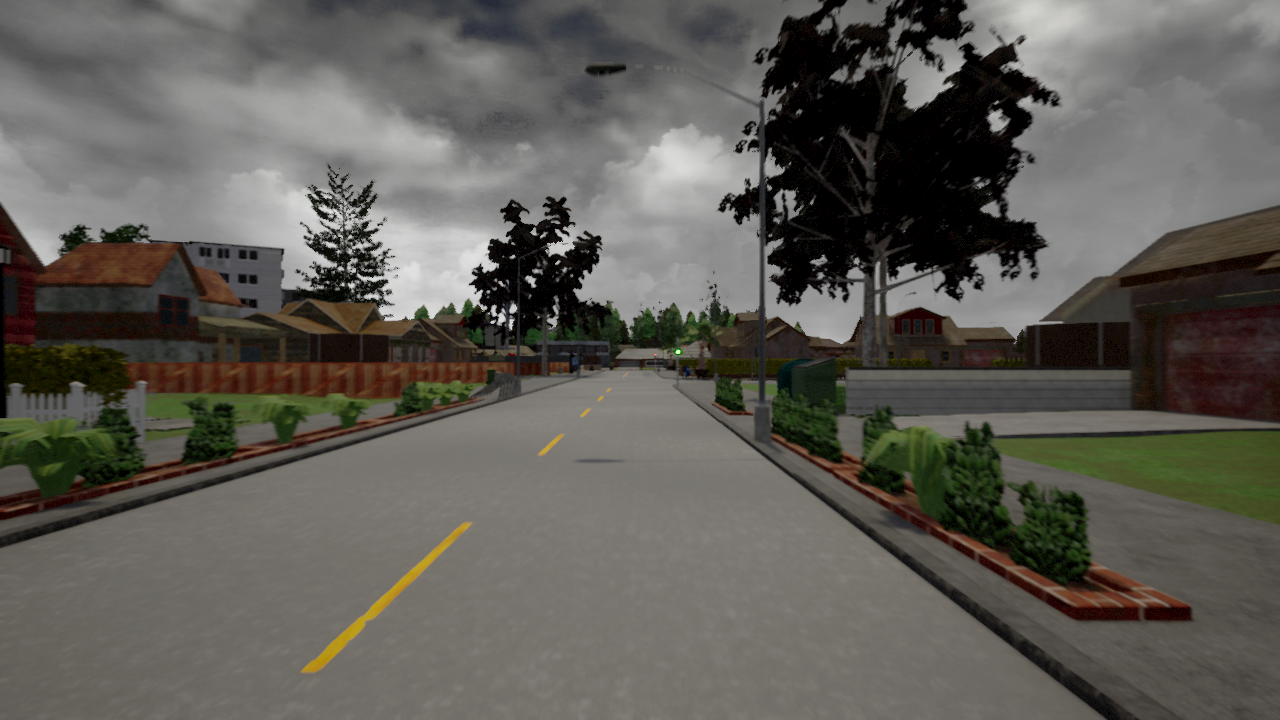green: (674, 338, 682, 355)
